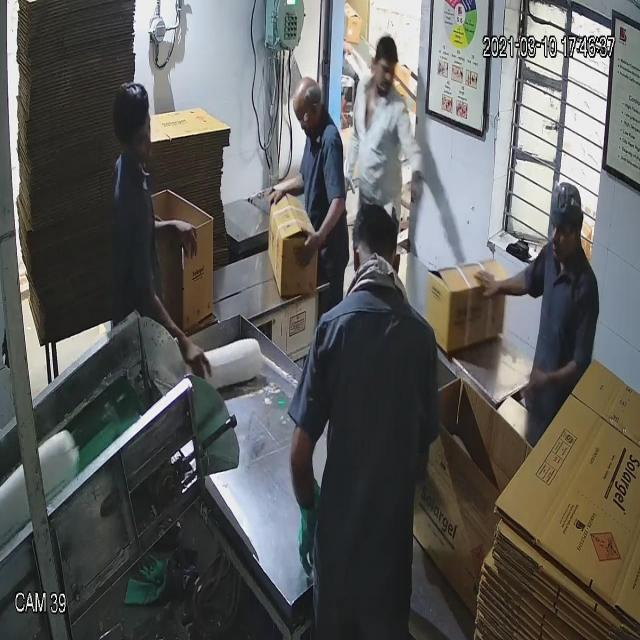No_Gloves: (46, 62, 549, 372)
